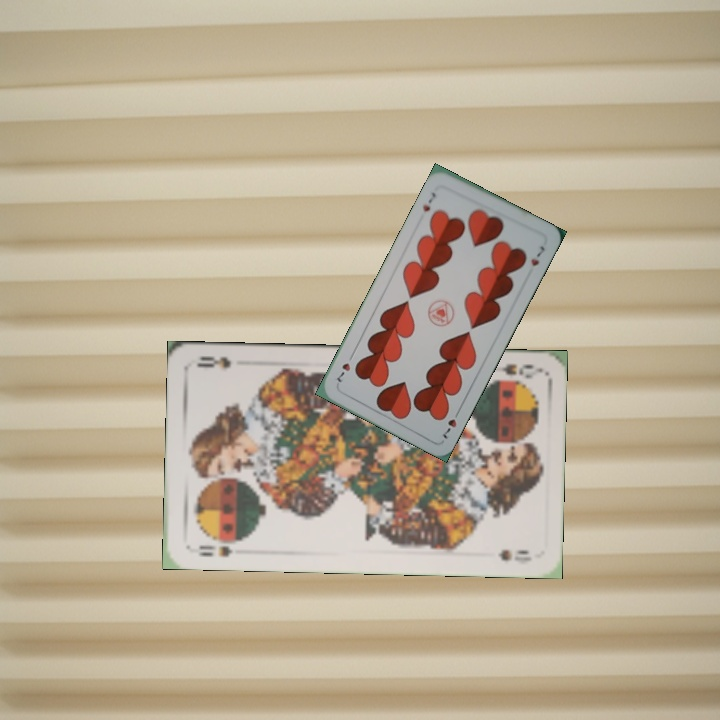H7: (438, 405, 463, 442), (419, 188, 439, 215)
SO: (498, 360, 540, 381), (194, 541, 234, 560)
